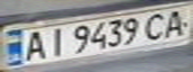3: (106, 17, 127, 48)
4: (90, 19, 112, 51)
9: (69, 21, 93, 55), (121, 15, 145, 46)
A: (18, 28, 51, 62), (160, 7, 193, 38)
C: (139, 11, 172, 42)
I: (42, 25, 69, 58)
